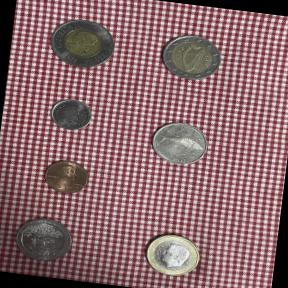coin: (38, 9, 130, 80), (136, 110, 218, 179), (4, 208, 86, 274), (133, 222, 214, 288), (151, 25, 233, 90), (37, 152, 98, 202), (43, 89, 104, 137)
